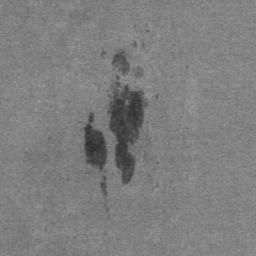Iron scale compression: (107, 75, 149, 186), (85, 113, 108, 198), (112, 53, 146, 79)
